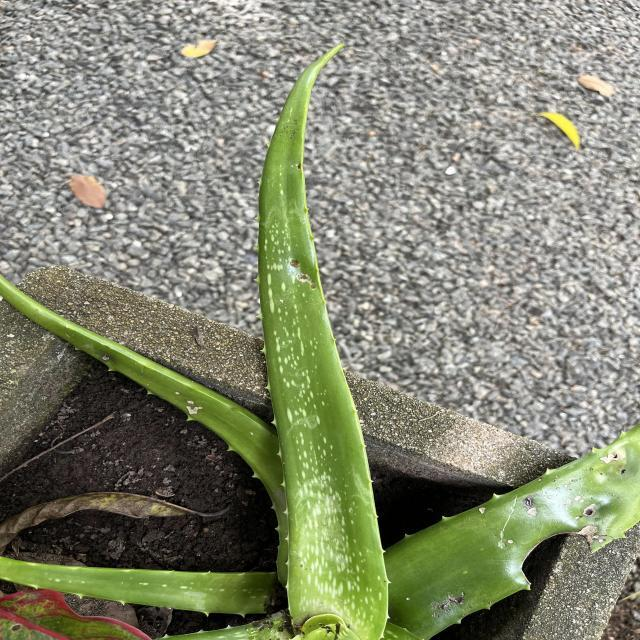Aloe vera: (250, 38, 395, 640)
